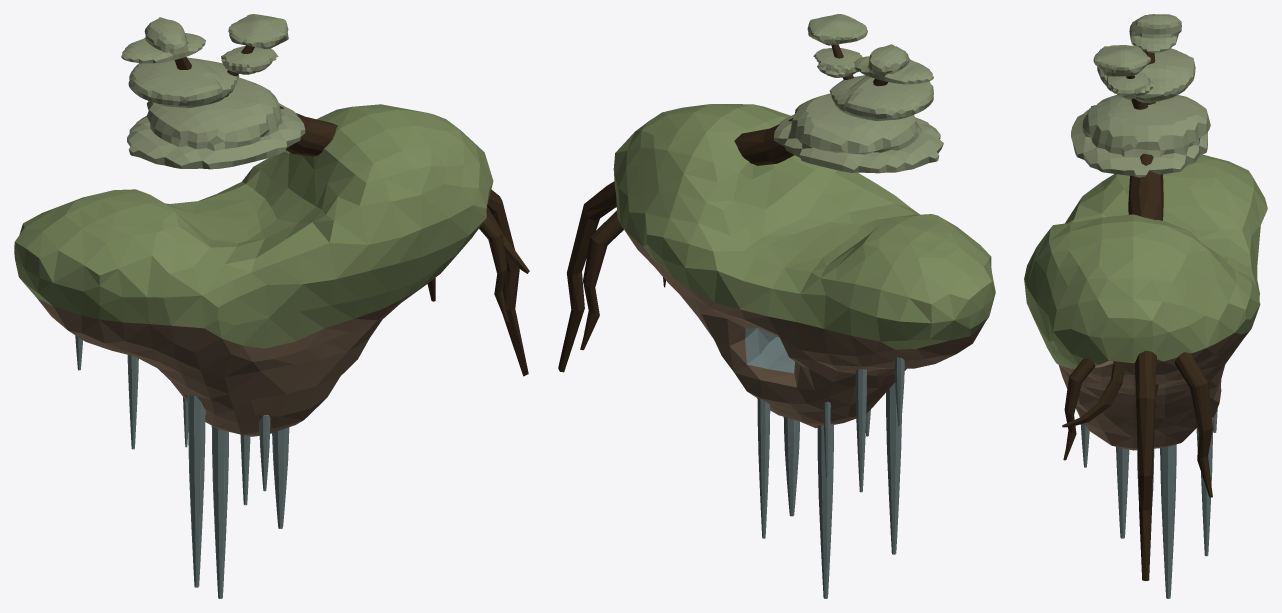
Rendered from Level Block.fbx.
The picture shows the model from 3 angles, left to right: view 1: azimuth 30°, elevation 25°; view 2: azimuth 150°, elevation 25°; view 3: azimuth 270°, elevation 25°; orthographic projection. The views are drawn at different scales.
Visible parts, largest first — view 1: Icosphere.005, Icosphere.018, Icosphere.021, Icosphere.006, Icosphere.013, Icosphere.019, Icosphere.011, Icosphere.022, Icosphere.001, Icosphere.007, Icosphere.023, Icosphere.012; view 2: Icosphere.005, Icosphere.018, Icosphere.006, Icosphere.021, Icosphere.019, Icosphere.011, Icosphere.008, Icosphere.013, Icosphere.022, Icosphere.004, Icosphere.001, Icosphere.012 (+1 smaller); view 3: Icosphere.005, Icosphere.018, Icosphere.006, Icosphere.021, Icosphere.008, Icosphere.011, Icosphere.019, Icosphere.022, Icosphere.007, Icosphere.013, Icosphere.023, Icosphere.004.
Boxes of the visible parts, <box> form: Icosphere.005: <box>14,104,493,436</box>; Icosphere.018: <box>127,77,305,169</box>; Icosphere.021: <box>128,57,239,107</box>; Icosphere.006: <box>174,57,529,376</box>; Icosphere.013: <box>188,394,205,587</box>; Icosphere.019: <box>121,17,205,63</box>; Icosphere.011: <box>211,426,228,598</box>; Icosphere.022: <box>228,14,288,49</box>; Icosphere.001: <box>272,427,289,528</box>; Icosphere.007: <box>479,215,508,321</box>; Icosphere.023: <box>221,46,278,74</box>; Icosphere.012: <box>127,355,138,449</box>; Icosphere.005: <box>613,104,995,428</box>; Icosphere.018: <box>773,93,943,173</box>; Icosphere.006: <box>558,78,887,372</box>; Icosphere.021: <box>829,75,933,120</box>; Icosphere.019: <box>854,44,933,84</box>; Icosphere.011: <box>817,424,833,598</box>; Icosphere.008: <box>580,210,623,350</box>; Icosphere.013: <box>886,383,901,554</box>; Icosphere.022: <box>807,14,867,45</box>; Icosphere.004: <box>757,398,770,538</box>; Icosphere.001: <box>783,417,799,516</box>; Icosphere.012: <box>855,369,866,492</box>; Icosphere.005: <box>1024,154,1267,450</box>; Icosphere.018: <box>1071,95,1210,177</box>; Icosphere.006: <box>1062,51,1163,580</box>; Icosphere.021: <box>1097,48,1195,102</box>; Icosphere.008: <box>1174,352,1212,497</box>; Icosphere.011: <box>1160,444,1176,598</box>; Icosphere.019: <box>1129,14,1181,52</box>; Icosphere.022: <box>1093,45,1150,76</box>; Icosphere.007: <box>1063,358,1095,460</box>; Icosphere.013: <box>1116,446,1129,538</box>; Icosphere.023: <box>1106,72,1153,96</box>; Icosphere.004: <box>1201,417,1212,556</box>.
Bounding box in the file's own units: 7557 × 8957 × 3573.
